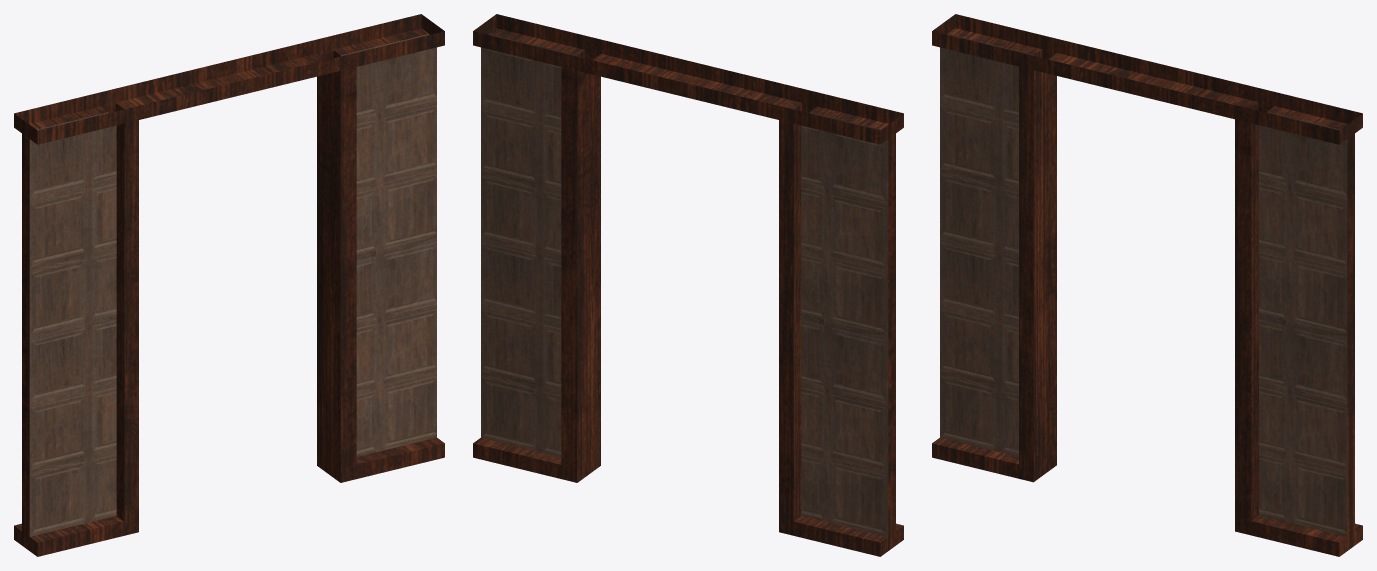
Rendered from NEW_DOORWAY.fbx.
3 renders of one model, left to right at view 1: azimuth 30°, elevation 25°; view 2: azimuth 150°, elevation 25°; view 3: azimuth 330°, elevation 25°, orthographic.
Visible parts, largest first — view 1: Doorway; view 2: Doorway; view 3: Doorway.
Boxes of the visible parts, bbox=[...] form: Doorway: bbox=[14, 14, 444, 556]; Doorway: bbox=[473, 14, 903, 556]; Doorway: bbox=[932, 14, 1362, 556].
Bounding box in the file's own units: 300 × 300 × 30.
